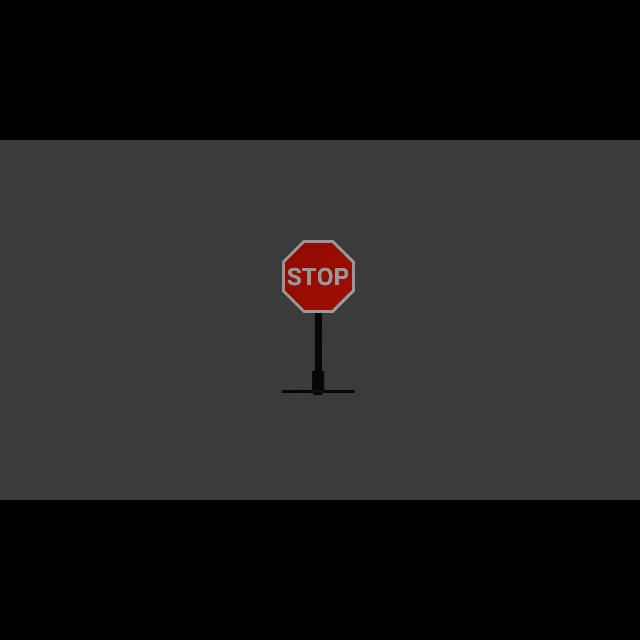sign_stop: (282, 240, 356, 315)
